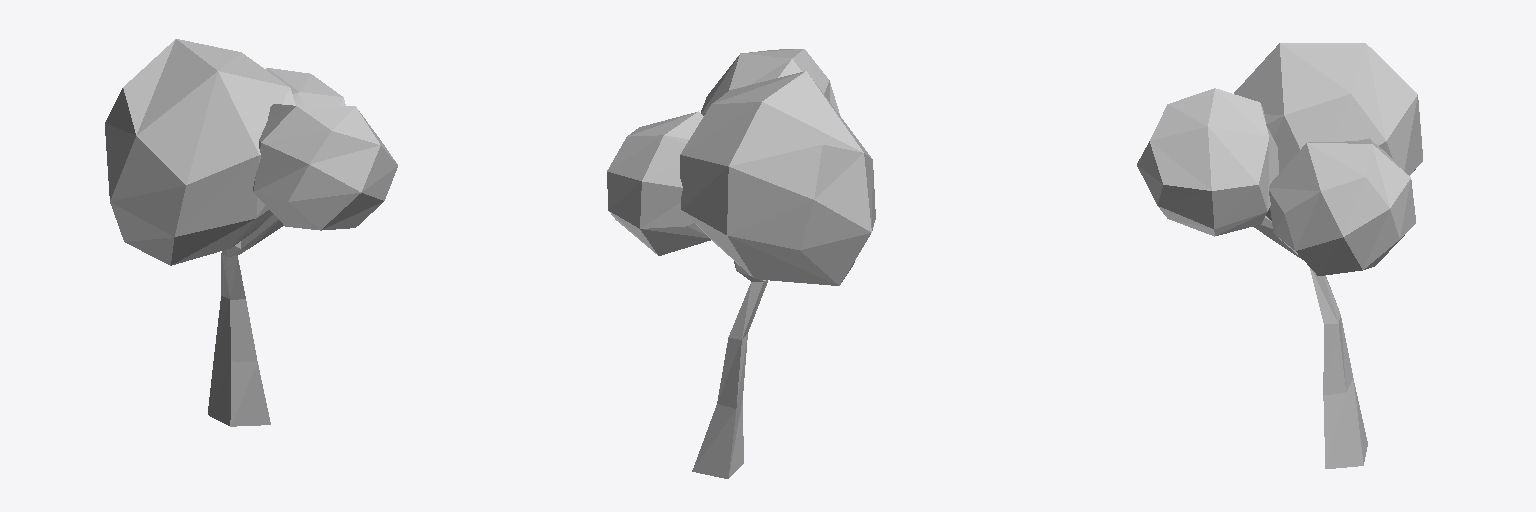
The model's file is tree11.obj.
The picture shows the model from 3 angles: view 1: azimuth 30°, elevation 25°; view 2: azimuth 150°, elevation 25°; view 3: azimuth 270°, elevation 25°; orthographic projection.
Visible parts, largest first — view 1: tree:crown4 tree_11, tree_11 tree:trunk4; view 2: tree:crown4 tree_11, tree_11 tree:trunk4; view 3: tree:crown4 tree_11, tree_11 tree:trunk4.
Part boxes in pixels (left/top/right/bottom): tree:crown4 tree_11: left=105, top=39, right=397, bottom=265; tree_11 tree:trunk4: left=208, top=214, right=283, bottom=426; tree:crown4 tree_11: left=607, top=49, right=875, bottom=285; tree_11 tree:trunk4: left=692, top=261, right=767, bottom=478; tree:crown4 tree_11: left=1137, top=43, right=1422, bottom=275; tree_11 tree:trunk4: left=1253, top=216, right=1367, bottom=468.
Size of the model in its own units: 18.7 by 27.86 by 18.59.